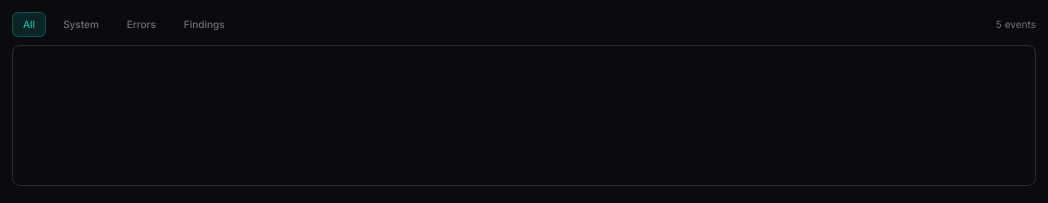
Test: LiveLog › filters to show only errors when Errors filter clicked
Click the button "Errors": point(141, 24) [116, 12, 167, 37]
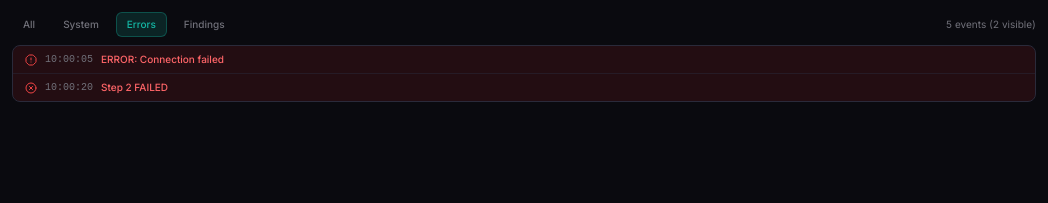
expect the text "5 events (2 visible)" is shown: met, box [946, 17, 1036, 32]
